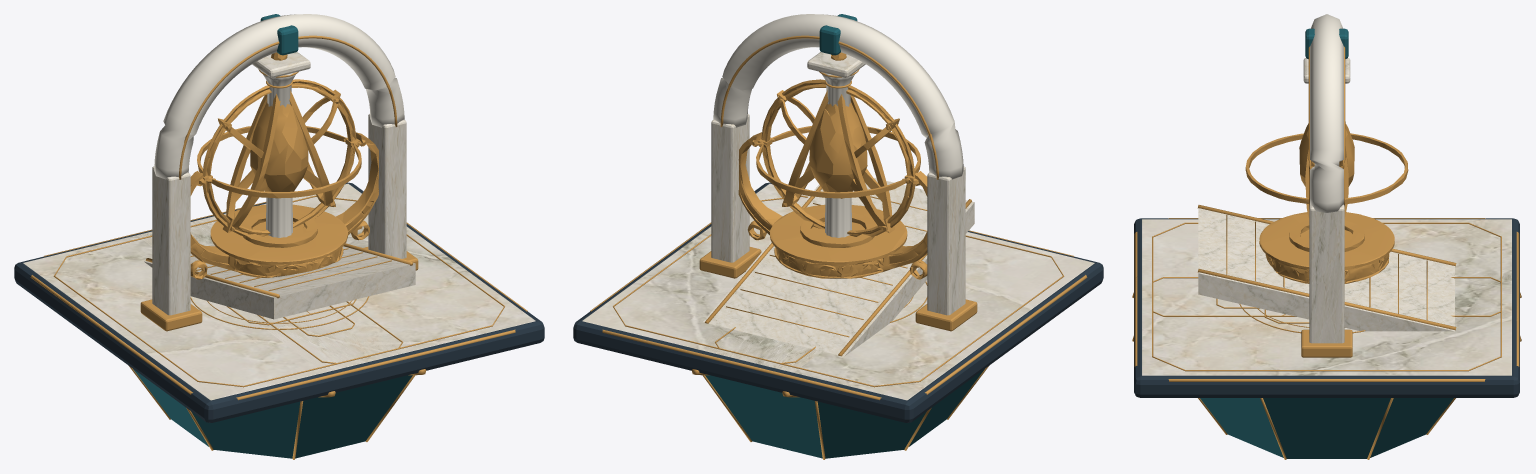
Rendered from platform-kit-qa-v2.glb.
3 renders of one model, left to right at view 1: azimuth 30°, elevation 25°; view 2: azimuth 150°, elevation 25°; view 3: azimuth 270°, elevation 25°, orthographic.
Parts seen in each view (by area): view 1: platform_terrace_museum_ivory, museum_astrolabe_museum_brass, museum_arch_museum_ivory, platform_terrace_museum_obsidian, platform_terrace_museum_petrol, platform_ramp_museum_ivory, platform_bridge_museum_ivory, platform_terrace_museum_brass, museum_column_museum_ivory, museum_arch_museum_brass, platform_bridge_museum_obsidian, platform_ramp_museum_brass (+2 smaller); view 2: platform_terrace_museum_ivory, museum_astrolabe_museum_brass, museum_arch_museum_ivory, platform_ramp_museum_ivory, platform_terrace_museum_obsidian, platform_terrace_museum_petrol, platform_terrace_museum_brass, museum_arch_museum_brass, museum_column_museum_ivory, platform_bridge_museum_ivory, platform_ramp_museum_brass, platform_bridge_museum_obsidian (+1 smaller); view 3: platform_terrace_museum_ivory, platform_ramp_museum_ivory, platform_terrace_museum_petrol, museum_arch_museum_ivory, platform_terrace_museum_obsidian, museum_astrolabe_museum_brass, platform_terrace_museum_brass, platform_ramp_museum_brass, museum_arch_museum_brass, platform_bridge_museum_brass, museum_arch_museum_petrol.
Boxes of the visible parts, x1,y1,x2,y2 form: platform_terrace_museum_ivory: [23, 183, 535, 400]; museum_astrolabe_museum_brass: [190, 52, 378, 279]; museum_arch_museum_ivory: [152, 14, 406, 315]; platform_terrace_museum_obsidian: [14, 182, 544, 422]; platform_terrace_museum_petrol: [133, 369, 412, 458]; platform_ramp_museum_ivory: [144, 244, 415, 319]; platform_bridge_museum_ivory: [137, 213, 418, 372]; platform_terrace_museum_brass: [30, 195, 527, 459]; museum_column_museum_ivory: [252, 52, 310, 237]; museum_arch_museum_brass: [140, 35, 418, 331]; platform_bridge_museum_obsidian: [134, 210, 428, 394]; platform_ramp_museum_brass: [145, 243, 413, 298]; platform_terrace_museum_ivory: [582, 183, 1094, 400]; museum_astrolabe_museum_brass: [738, 52, 927, 279]; museum_arch_museum_ivory: [711, 14, 965, 315]; platform_ramp_museum_ivory: [703, 177, 974, 356]; platform_terrace_museum_obsidian: [573, 182, 1103, 422]; platform_terrace_museum_petrol: [705, 369, 984, 458]; platform_terrace_museum_brass: [590, 195, 1087, 459]; museum_arch_museum_brass: [699, 35, 977, 331]; museum_column_museum_ivory: [807, 52, 865, 237]; platform_bridge_museum_ivory: [695, 232, 980, 372]; platform_ramp_museum_brass: [704, 186, 971, 356]; platform_bridge_museum_obsidian: [689, 231, 983, 394]; platform_terrace_museum_ivory: [1142, 219, 1511, 375]; platform_ramp_museum_ivory: [1198, 208, 1454, 331]; platform_terrace_museum_petrol: [1200, 398, 1453, 458]; museum_arch_museum_ivory: [1309, 14, 1344, 343]; platform_terrace_museum_obsidian: [1134, 218, 1519, 397]; museum_astrolabe_museum_brass: [1245, 121, 1408, 283]; platform_terrace_museum_brass: [1134, 218, 1519, 459]; platform_ramp_museum_brass: [1197, 205, 1456, 330]; museum_arch_museum_brass: [1301, 46, 1352, 357]; platform_bridge_museum_brass: [1132, 277, 1521, 341]; museum_arch_museum_petrol: [1305, 28, 1348, 58].
Size of the model in its own units: 3.3 by 3.68 by 3.32.
Materials: 6 (2 with a texture image).
